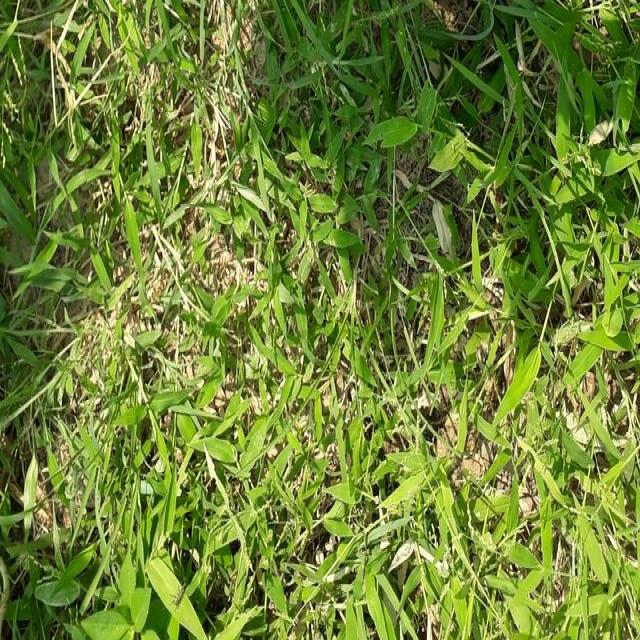weed: (9, 395, 640, 640), (229, 9, 640, 332), (0, 0, 182, 279)
